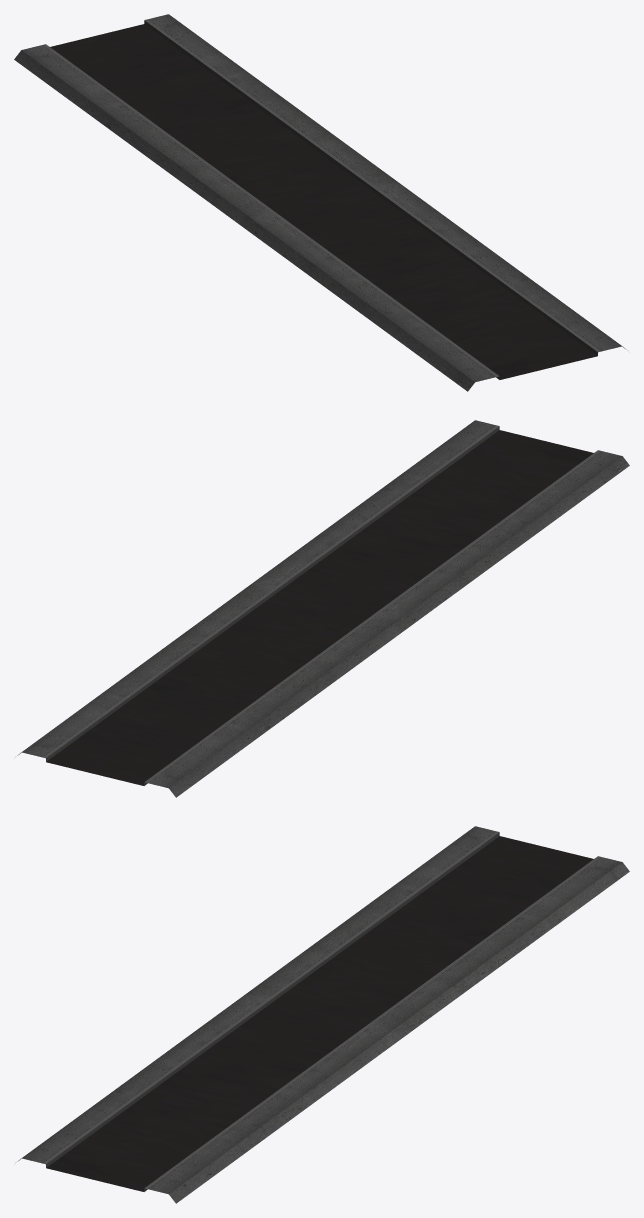
File: RJs_Road 1 Basic Segment_Node.fbx
The picture shows the model from 3 angles, top to bottom: view 1: azimuth 30°, elevation 25°; view 2: azimuth 150°, elevation 25°; view 3: azimuth 330°, elevation 25°; orthographic projection.
Visible parts, largest first — view 1: plane; view 2: plane; view 3: plane.
Boxes of the visible parts, left/top/right/bottom form: plane: left=14, top=14, right=626, bottom=391; plane: left=17, top=420, right=629, bottom=797; plane: left=17, top=826, right=629, bottom=1203.
Size of the model in its own units: 1320 by 60.1 by 6400.
